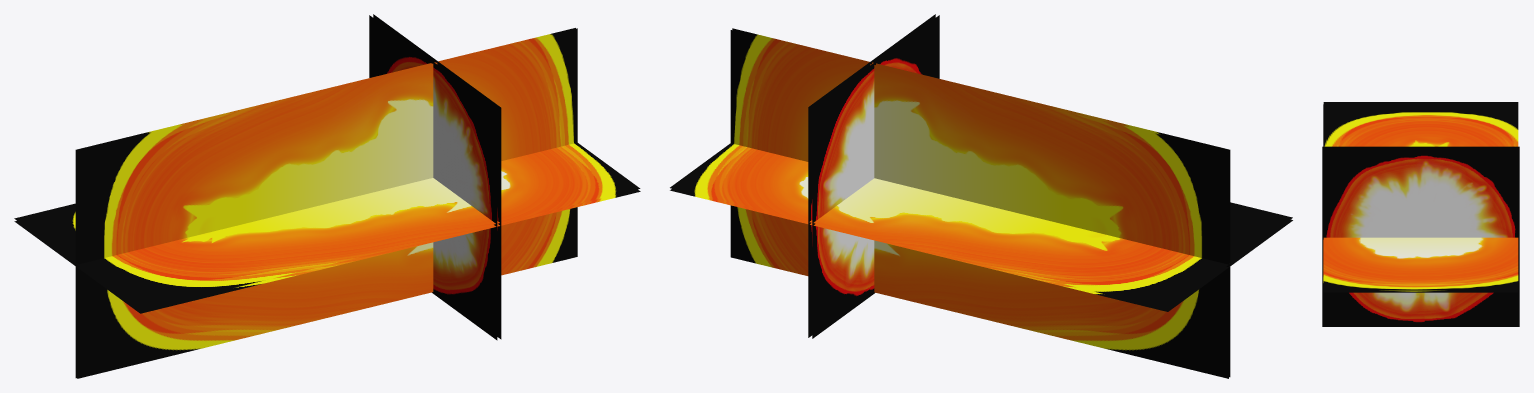
Rendered from flash.glb.
The picture shows the model from 3 angles, left to right: view 1: azimuth 30°, elevation 25°; view 2: azimuth 150°, elevation 25°; view 3: azimuth 270°, elevation 25°; orthographic projection. The views are drawn at different scales.
Parts seen in each view (by area): view 1: flash; view 2: flash; view 3: flash.
Part boxes in pixels (x1=…): flash: x1=14, y1=14, x2=640, y2=378; flash: x1=670, y1=14, x2=1292, y2=378; flash: x1=1322, y1=102, x2=1519, y2=326.
Bounding box in the file's own units: 1.74 × 0.7727 × 0.7727.
2 materials, 2 textured.
